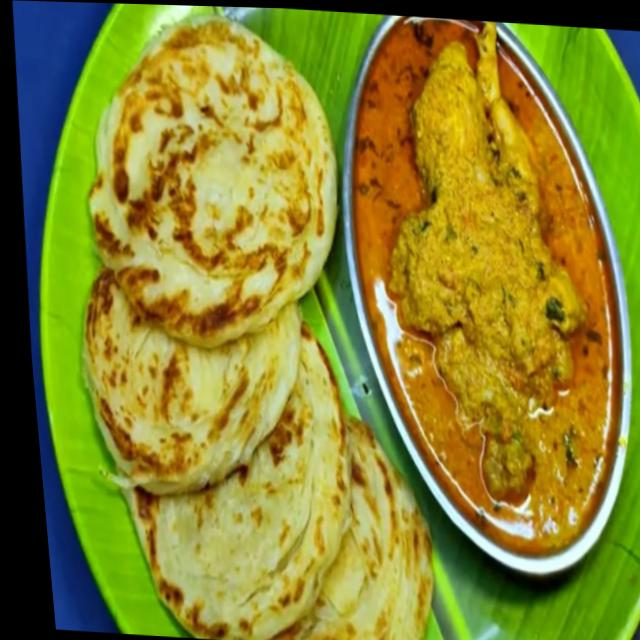CURRY: (350, 14, 614, 553)
PAROTTA: (76, 20, 434, 640)
